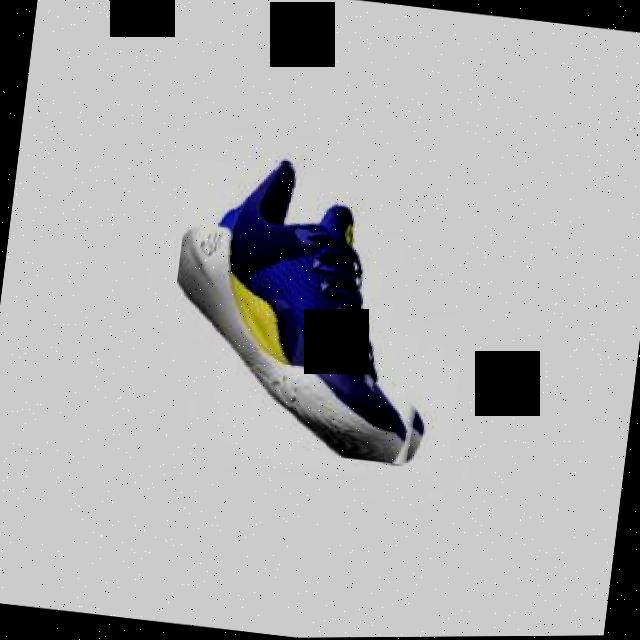shoe: (158, 148, 458, 469)
